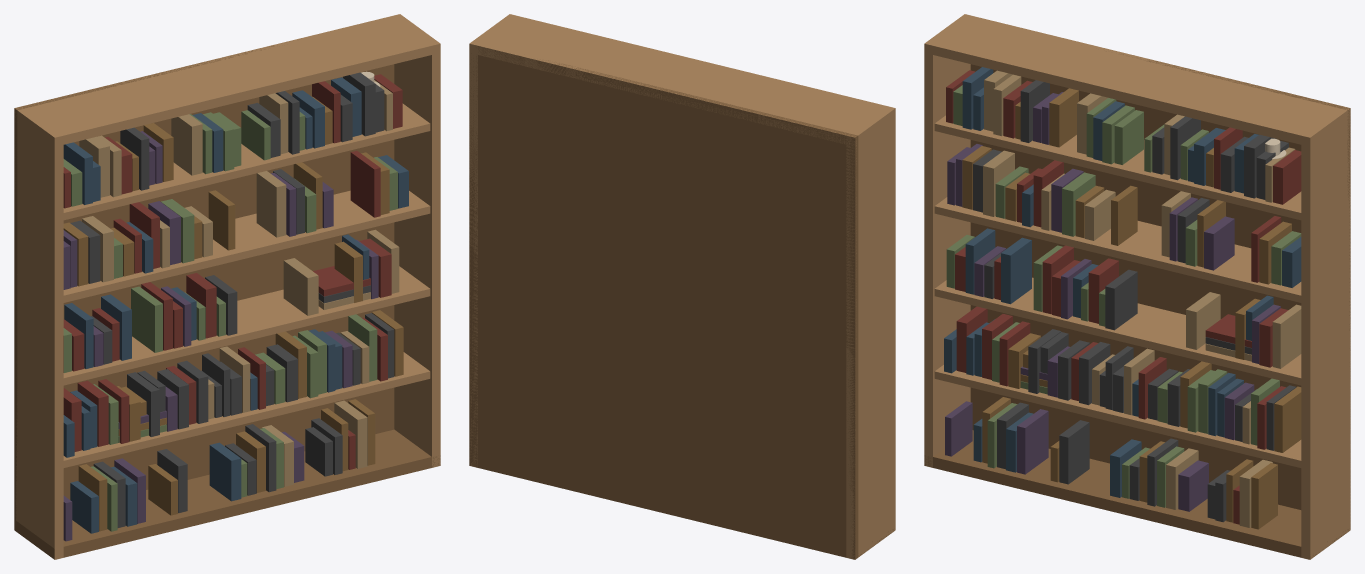
File: bookshelf-oak-01.glb
3 renders of one model, left to right at view 1: azimuth 30°, elevation 25°; view 2: azimuth 150°, elevation 25°; view 3: azimuth 330°, elevation 25°, orthographic.
Parts seen in each view (by area): view 1: back, side-left, top, side-right, base, shelf-0.95, shelf-1.4, shelf-1.85, shelf-0.5, book-3-0.21, book-2--0.50, book-3-0.74 (+92 smaller); view 2: back, side-left, top, side-right, base; view 3: side-right, back, top, side-left, base, shelf-0.95, shelf-1.4, shelf-1.85, shelf-0.5, book-2--0.69, book-0--0.60, book-0--0.36 (+91 smaller).
Boxes of the visible parts, bbox=[...] form: back: bbox=[14, 39, 394, 528]; side-left: bbox=[14, 107, 63, 559]; top: bbox=[14, 14, 439, 146]; side-right: bbox=[394, 43, 440, 467]; base: bbox=[14, 429, 440, 559]; shelf-0.95: bbox=[63, 266, 430, 385]; shelf-1.4: bbox=[63, 190, 430, 302]; shelf-1.85: bbox=[63, 103, 430, 220]; shelf-0.5: bbox=[63, 352, 430, 467]; book-3-0.21: bbox=[256, 171, 286, 237]; book-2--0.50: bbox=[131, 286, 162, 352]; book-3-0.74: bbox=[350, 150, 380, 217]; back: bbox=[469, 46, 858, 559]; side-left: bbox=[846, 106, 895, 559]; top: bbox=[469, 14, 895, 146]; side-right: bbox=[469, 44, 477, 467]; base: bbox=[469, 456, 893, 556]; side-right: bbox=[1301, 106, 1350, 559]; back: bbox=[970, 50, 1350, 528]; top: bbox=[924, 14, 1350, 146]; side-left: bbox=[924, 44, 970, 467]; base: bbox=[924, 430, 1348, 558]; shelf-0.95: bbox=[934, 277, 1301, 385]; shelf-1.4: bbox=[934, 197, 1301, 302]; shelf-1.85: bbox=[934, 115, 1301, 220]; shelf-0.5: bbox=[934, 365, 1301, 467]; book-2--0.69: bbox=[1001, 237, 1031, 304]; book-0--0.60: bbox=[1017, 409, 1048, 474]; book-0--0.36: bbox=[1059, 420, 1089, 484].
Size of the model in its own units: 2.2 by 2.3 by 0.4.
